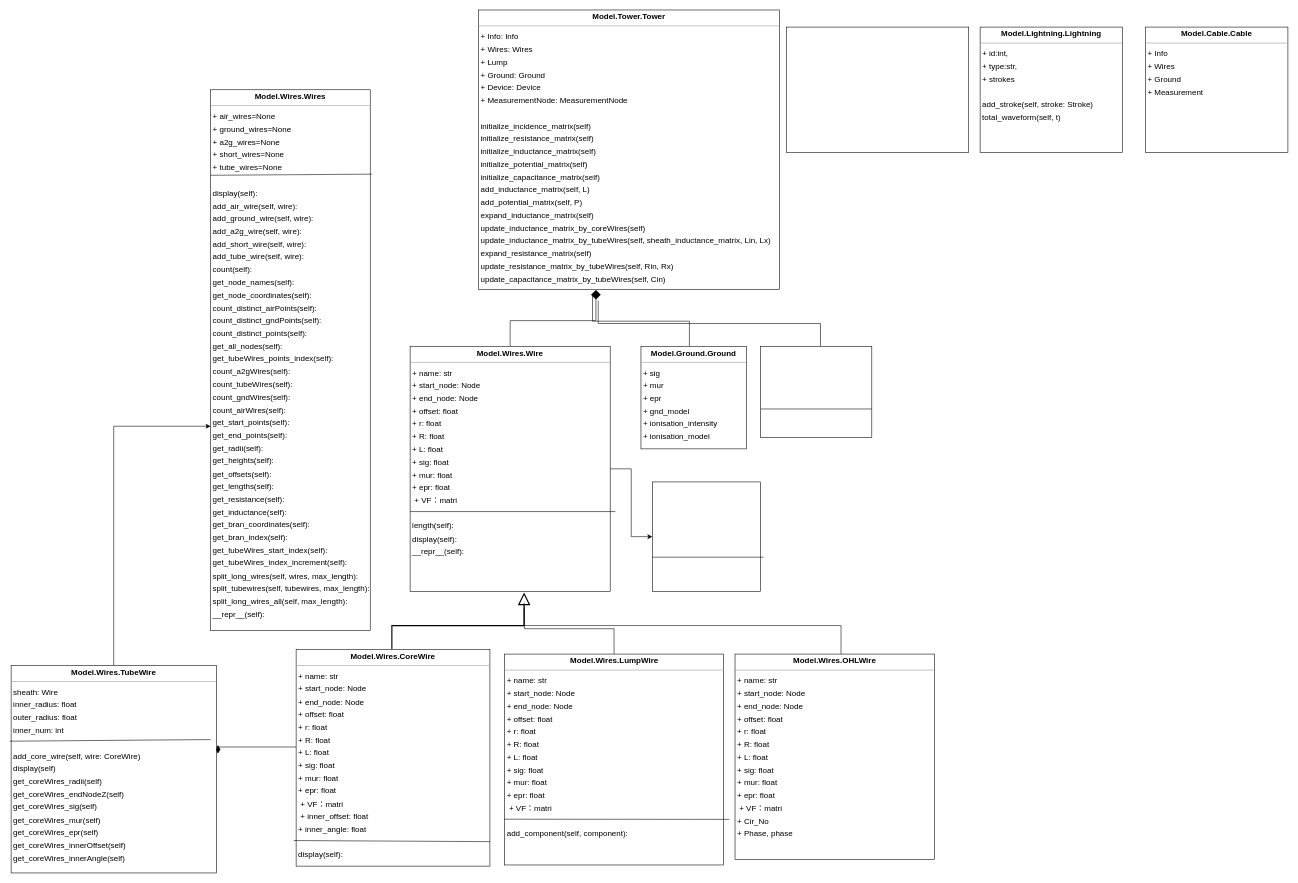
Image size: 1298x883. Some labels were removed from this diagram. The shapes that lost their labels are listed below. From the top down, each one's box as (x1, y1, x2, y2) in pixels, then its label:
(786, 27, 969, 152): Model.OHL.OHL + wires, + Info + ground + Measurement
(760, 346, 872, 437): Model.Device.Device + ins + sar + txf __repr__(self):
(652, 481, 761, 591): Model.Node.Node name：string x ：int y：int z：int __repr__(self)
